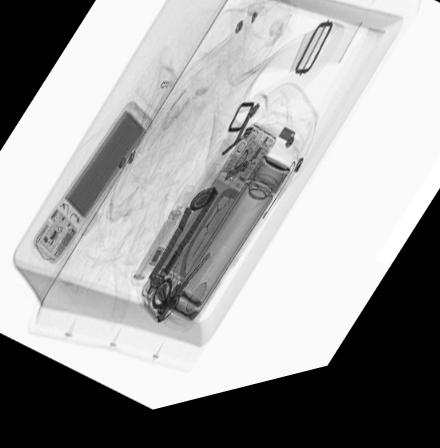Powerbank: (31, 104, 155, 268)
